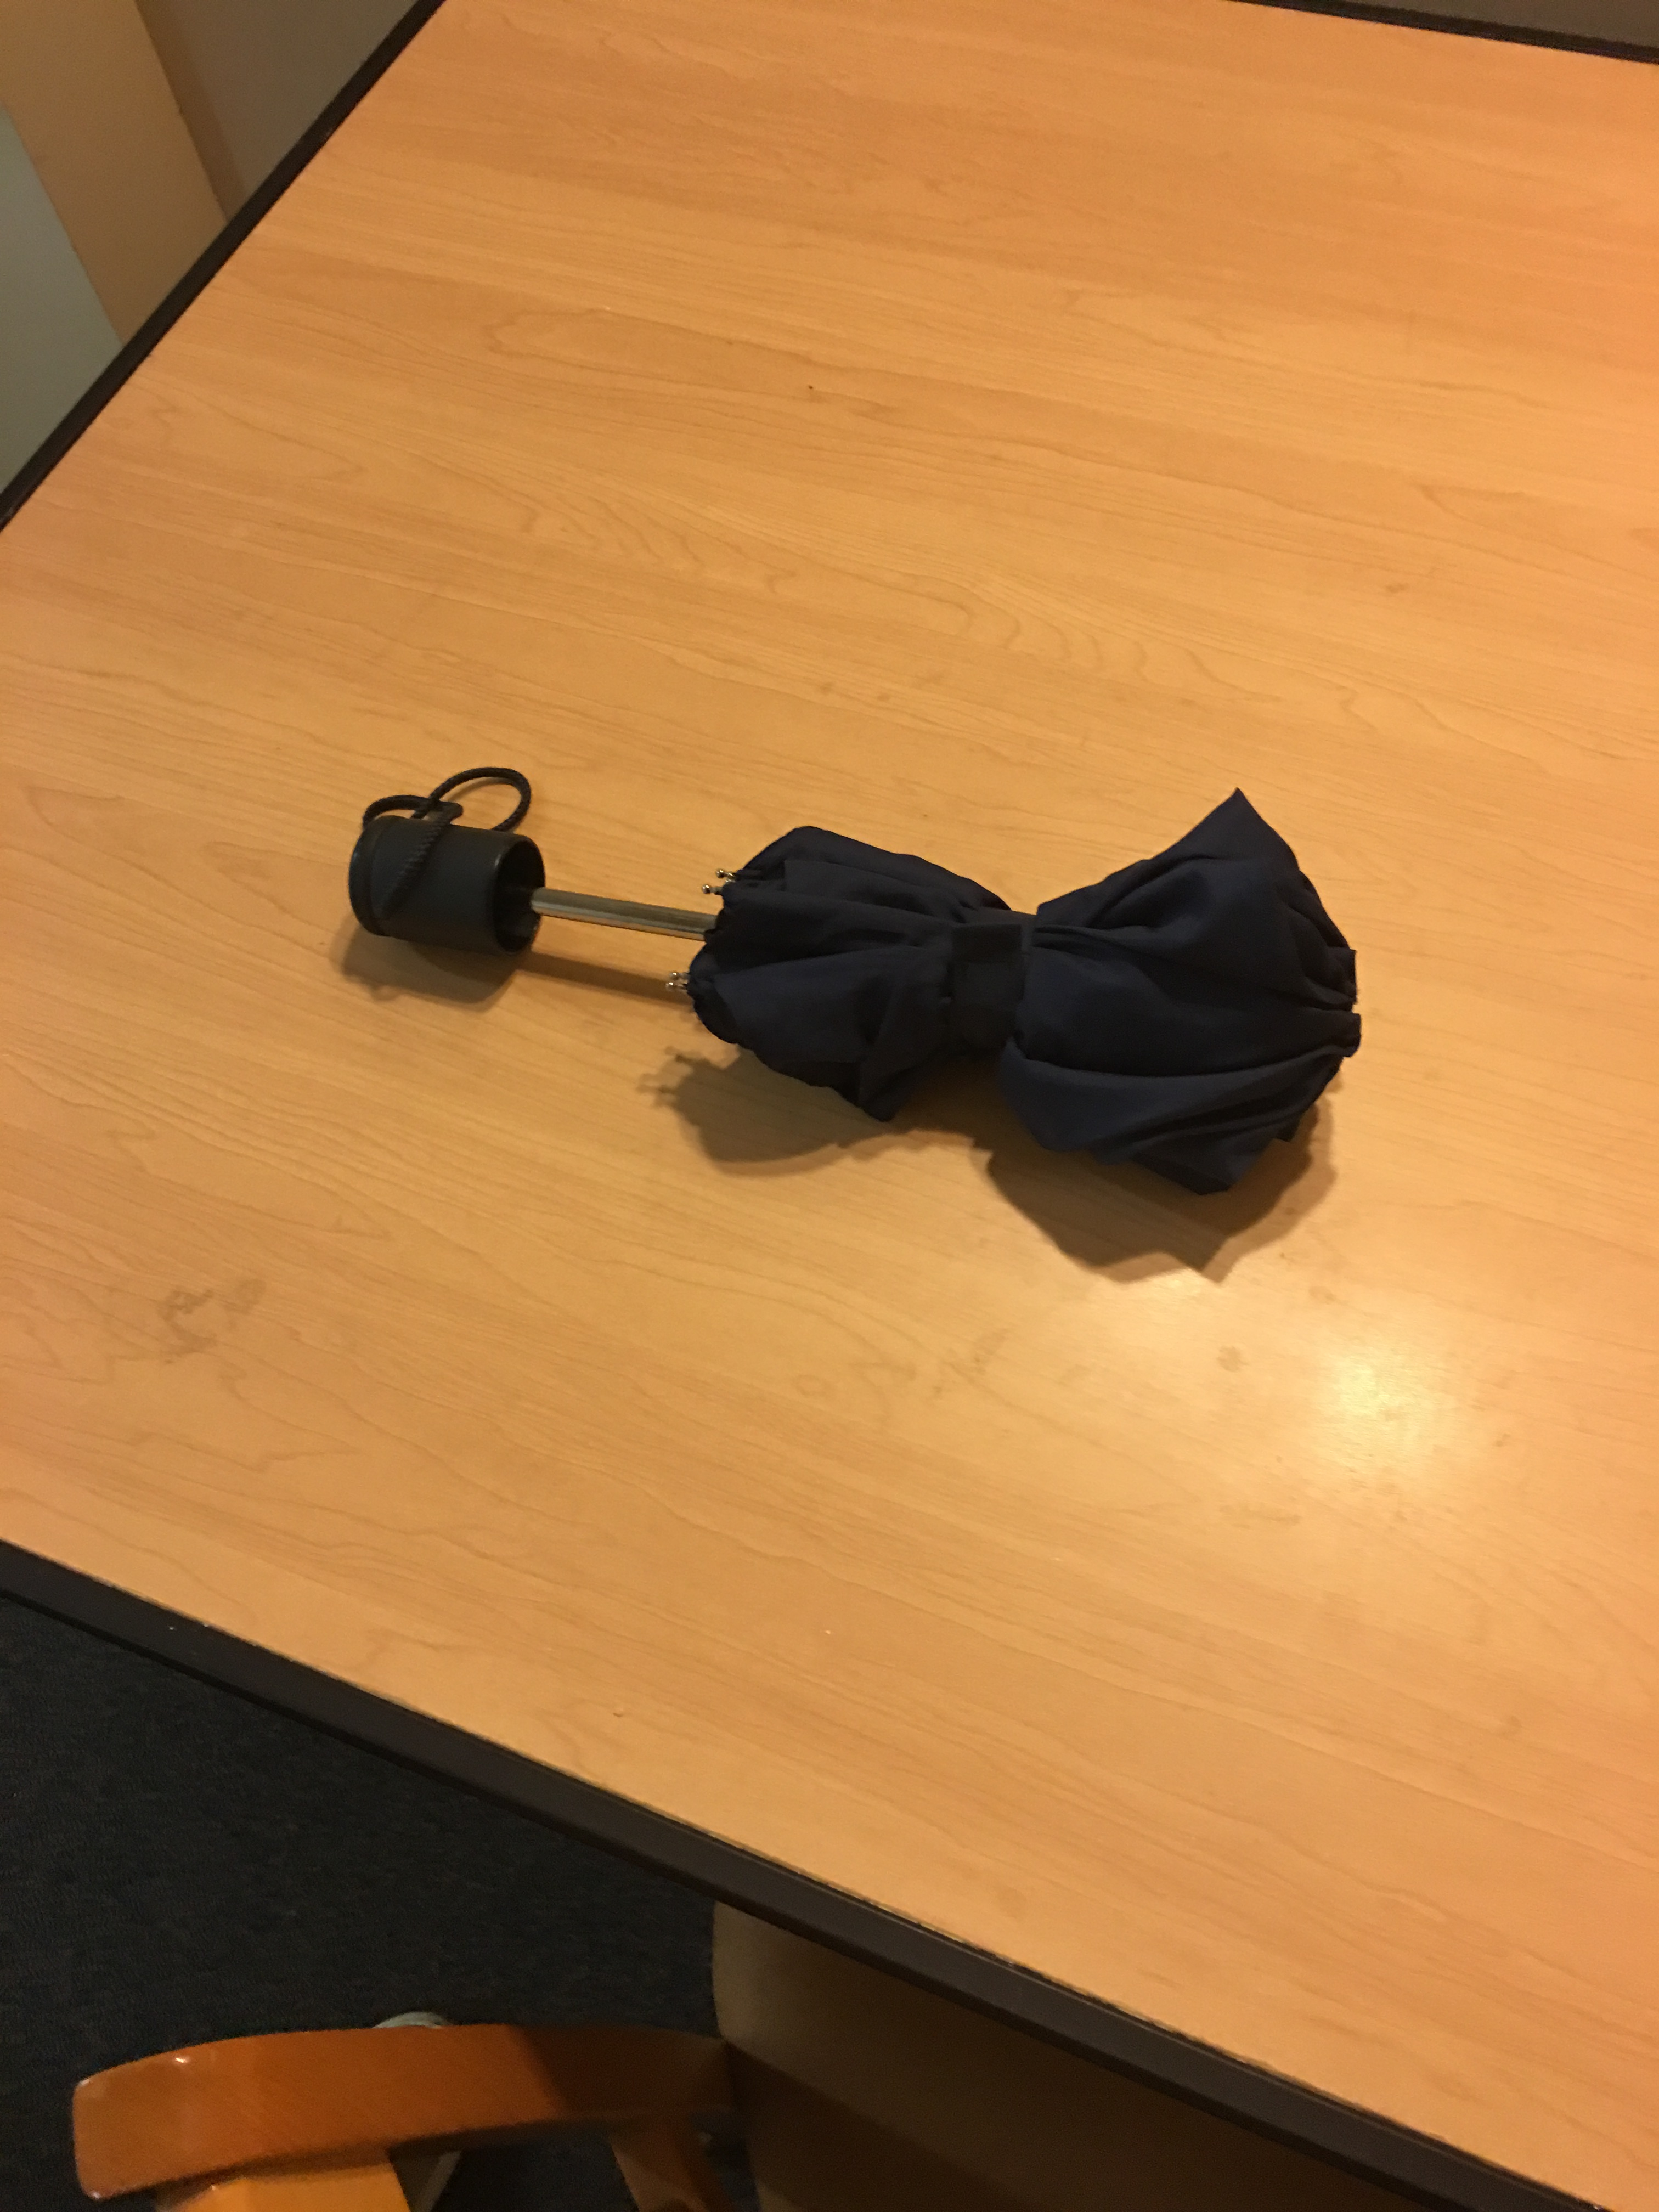Umbrella: (345, 766, 1378, 1200)
